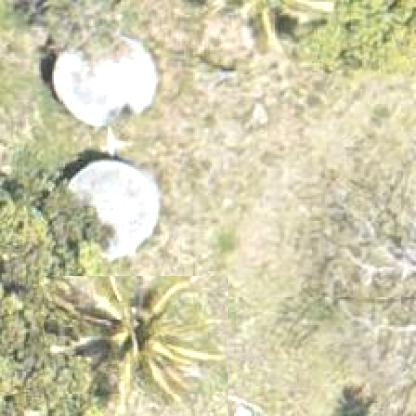coconut tree: (43, 275, 229, 415)
